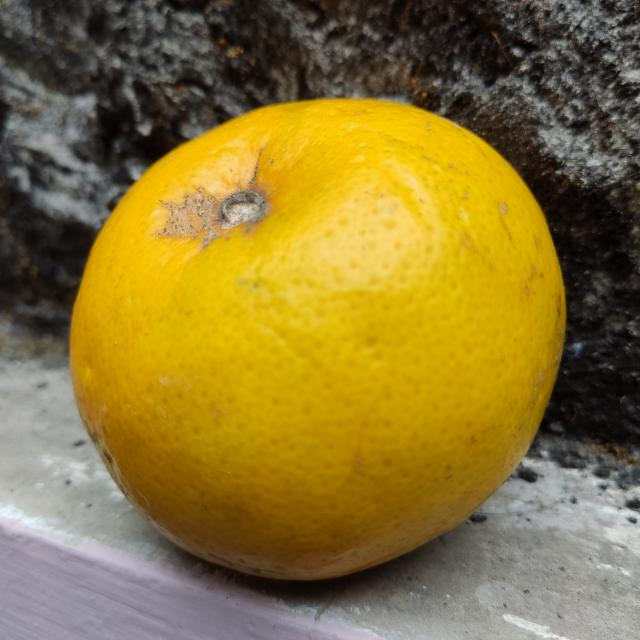orange: (68, 94, 576, 587)
